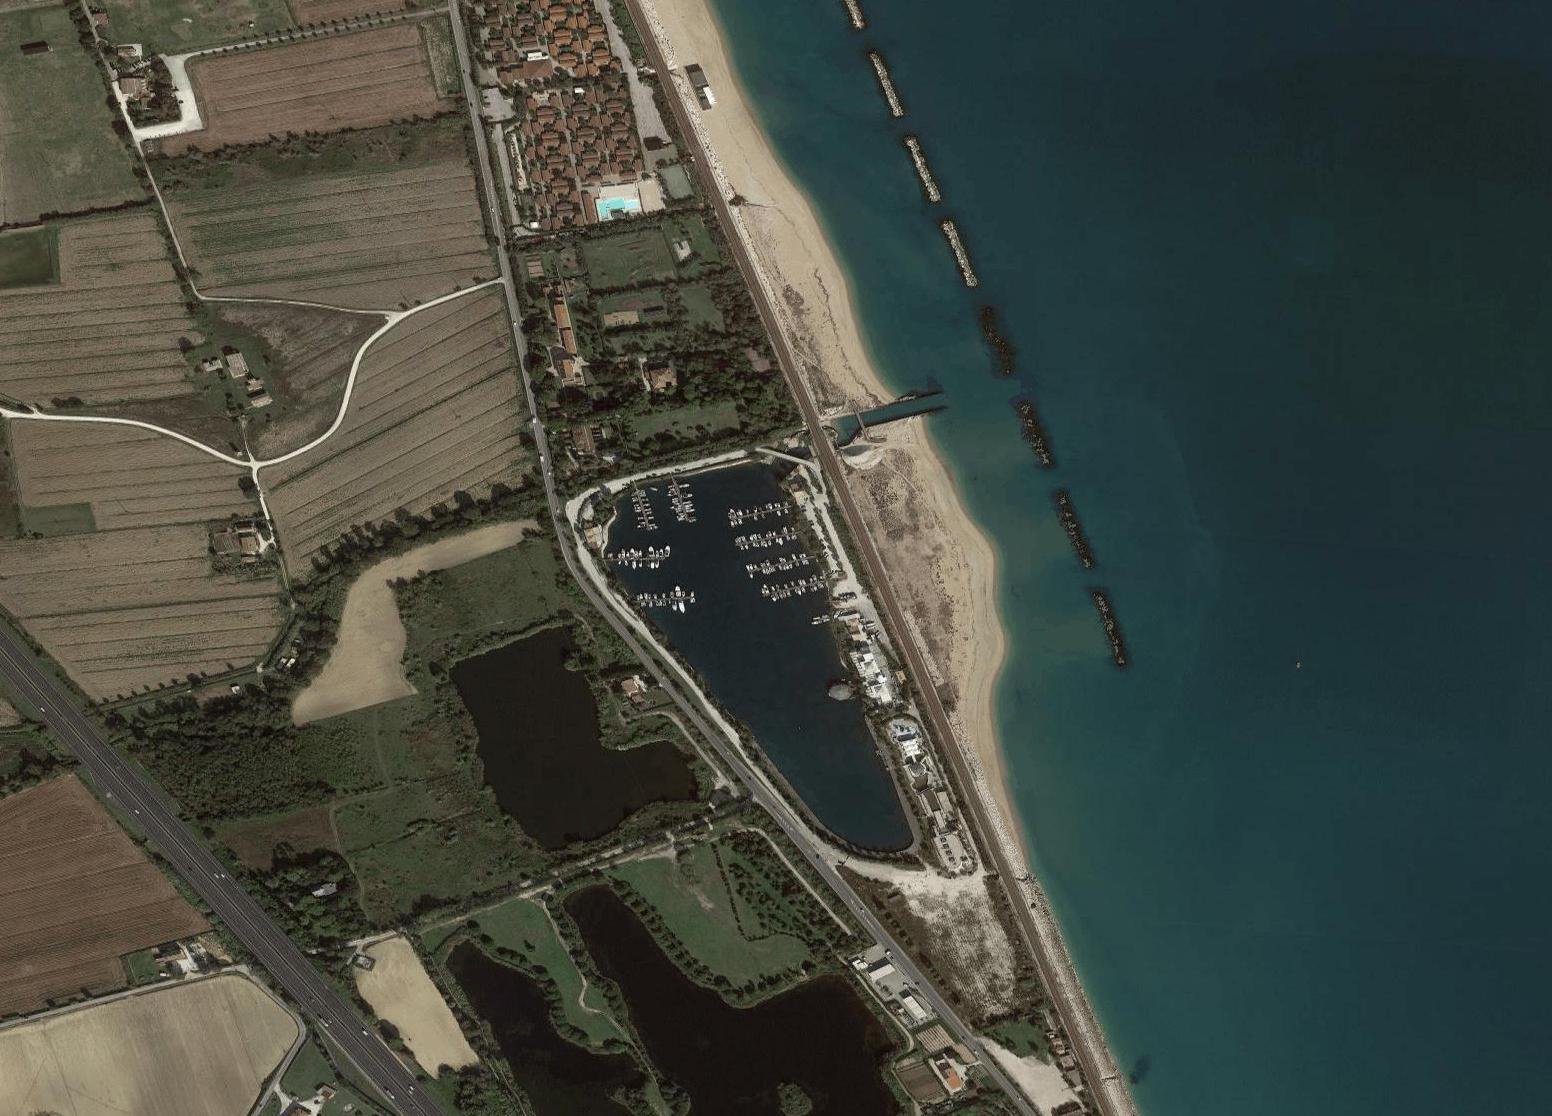harbor: (587, 437, 1036, 887)
